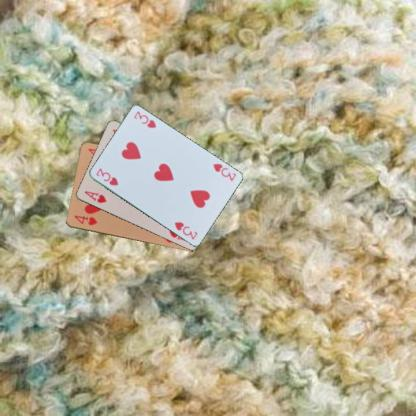3h: (210, 160, 237, 182), (93, 166, 120, 186)
4h: (72, 213, 98, 227)
Ah: (82, 188, 108, 204)
